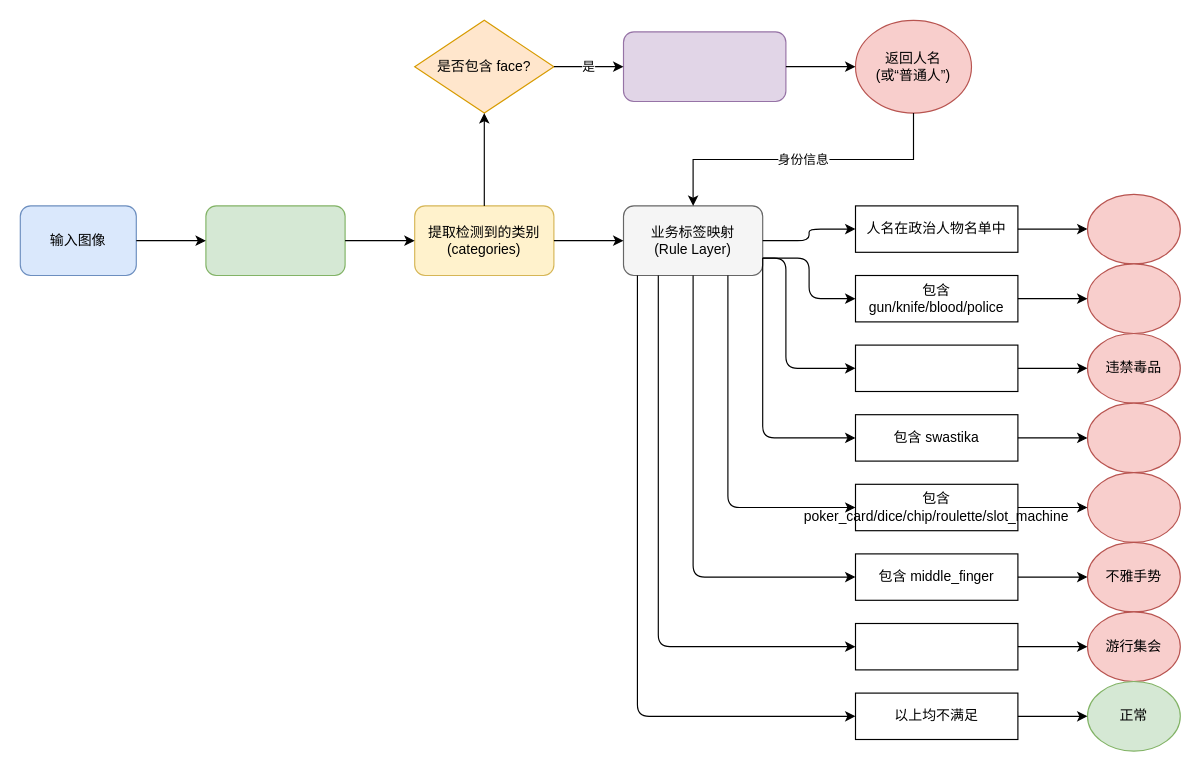
Some shapes in this 1201 by 771 pixel diagram are drawn without their labels. The box of each missing label's shape, as (x1, y1, x2, y2) in pixels:
InsightFace (RetinaFace + ArcFace) 人脸识别与比对: (622, 31, 786, 102)
YOLOv8 目标检测 (19个类别): (205, 205, 345, 276)
包含 banner/flag 或 (crowd 且 face_count>=1): (854, 622, 1018, 670)
包含 syringe/powder: (854, 344, 1018, 392)
暴恐: (1086, 263, 1180, 334)
涉政: (1086, 193, 1180, 264)
纳粹符号: (1086, 402, 1180, 473)
赌博: (1086, 472, 1180, 542)
